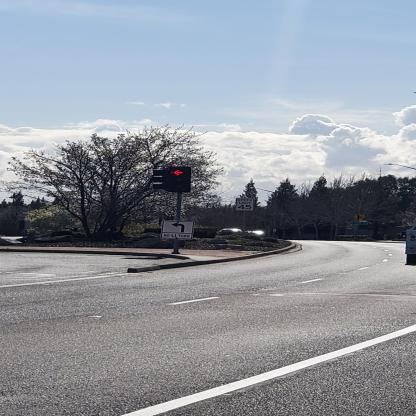left-red: (170, 167, 189, 190)
